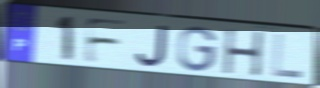1: (54, 15, 76, 63)
F: (82, 16, 130, 66)
G: (176, 25, 219, 73)
H: (222, 29, 266, 78)
J: (134, 23, 170, 69)
L: (270, 32, 305, 80)
